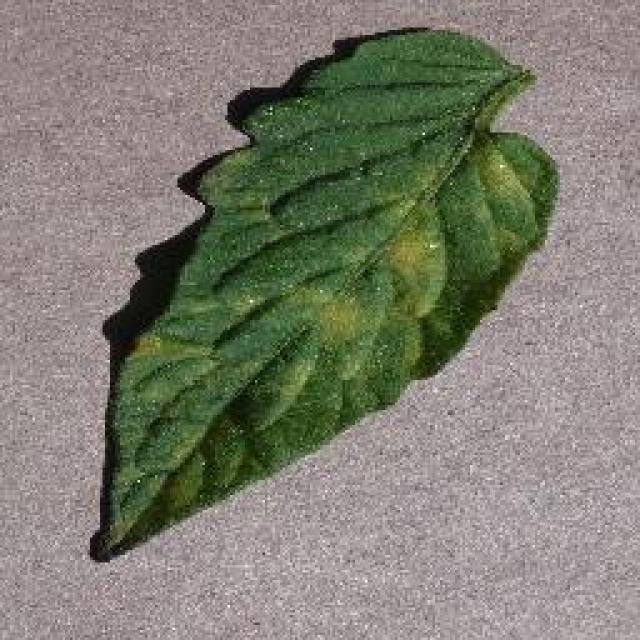Tomato___Leaf_Mold: (100, 30, 555, 552)
